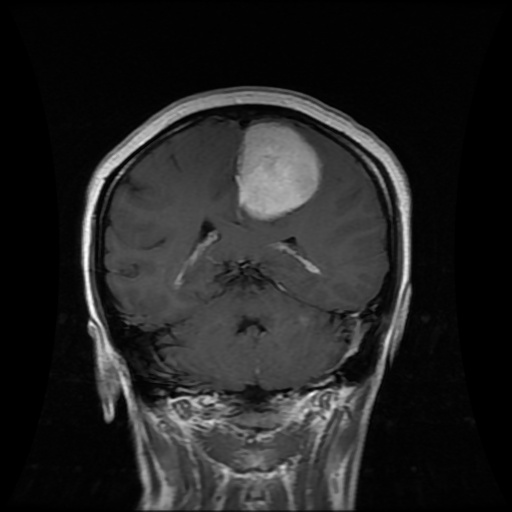meningioma: (236, 121, 320, 222)
